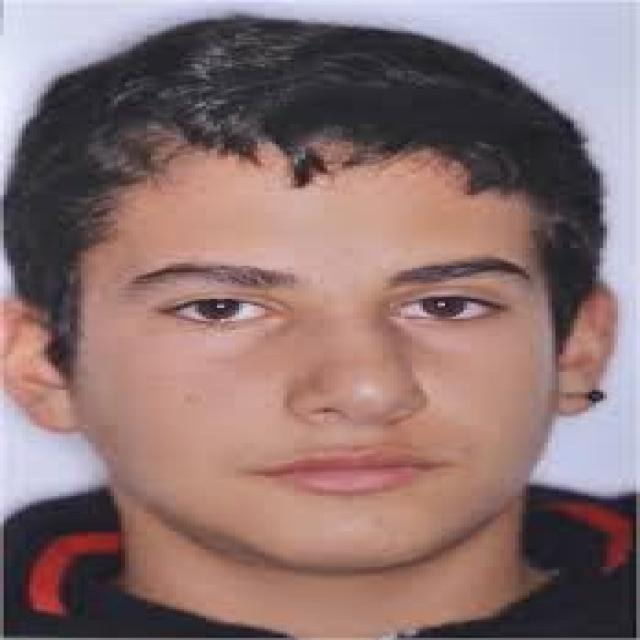normal_face: (71, 73, 587, 560)
